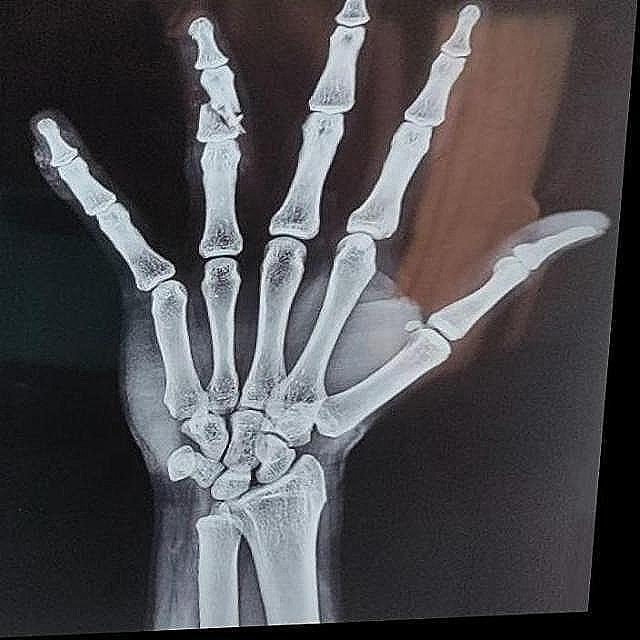bone: (194, 80, 246, 143)
